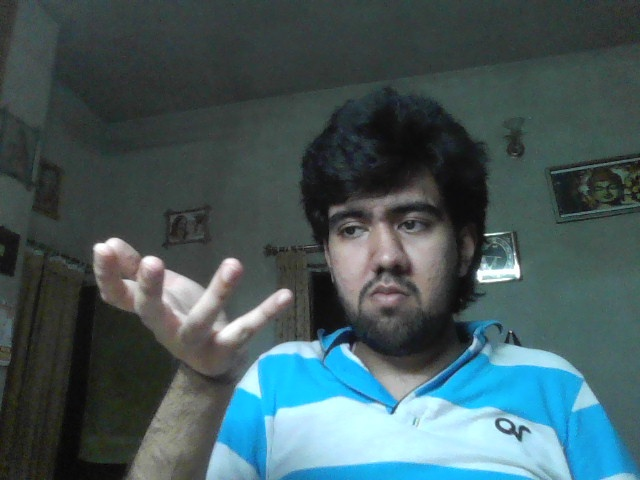What: (93, 238, 294, 379)
